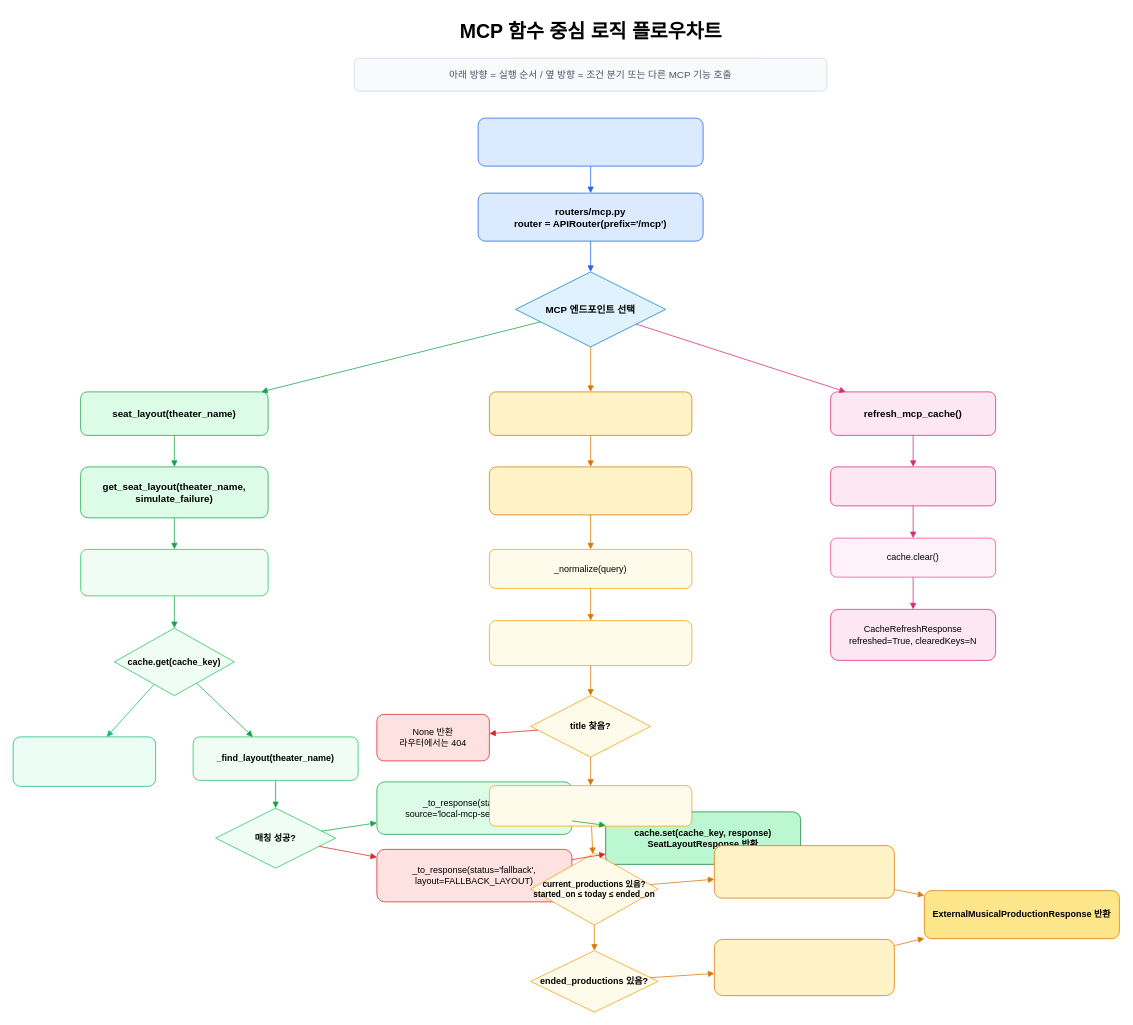
The diagram is 1133 pixels wide and 1025 high, and some of its shapes have lost their labels. The shapes that lost their labels are listed below. From the top down, each one's box as (x1, y1, x2, y2) in pixels, then its label:
(477, 117, 703, 166): app/main.py app.include_router(mcp_router)
(489, 391, 692, 435): musical_production(musical_title)
(489, 466, 692, 515): lookup_external_musical_production(query)
(830, 466, 996, 506): refresh_cache()
(80, 549, 268, 596): _normalize(theater_name) cache_key 생성
(489, 620, 692, 666): _match_external_title(normalized_query)
(12, 736, 156, 786): 캐시 hit model_copy(cached=True)
(489, 785, 692, 826): 같은 title 공연 목록 필터링
(714, 845, 894, 898): max(started_on) with_selection_status('current')
(714, 939, 894, 996): max(ended_on, started_on) with_selection_status('most_recent')
